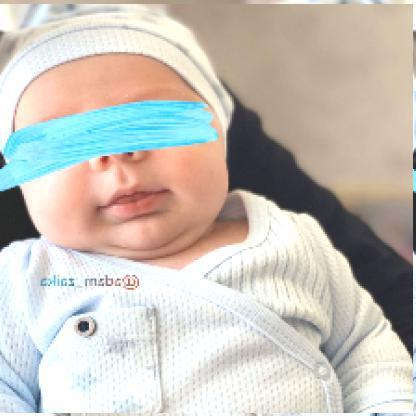child: (1, 5, 415, 415)
